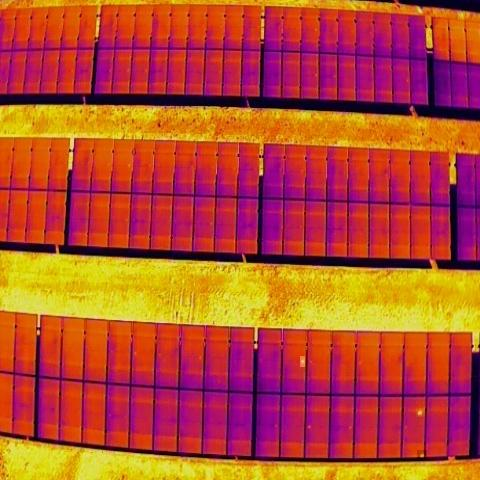fault: (417, 450, 427, 459), (416, 408, 425, 417), (300, 356, 305, 367)
